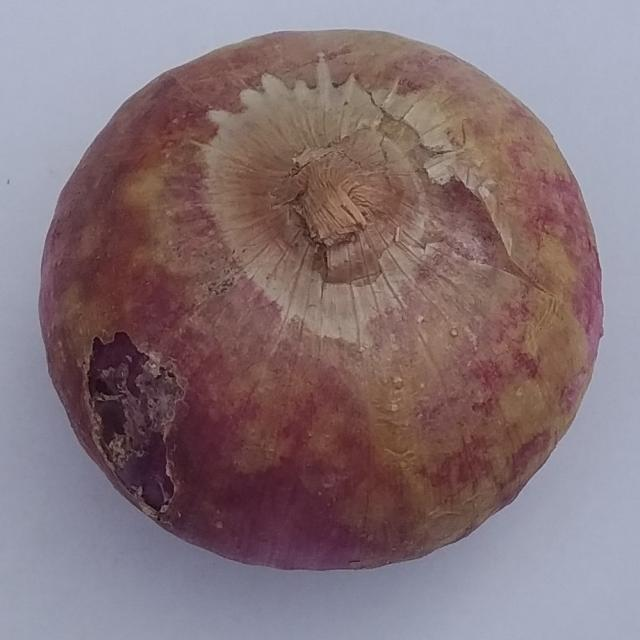onion: (39, 28, 606, 574)
